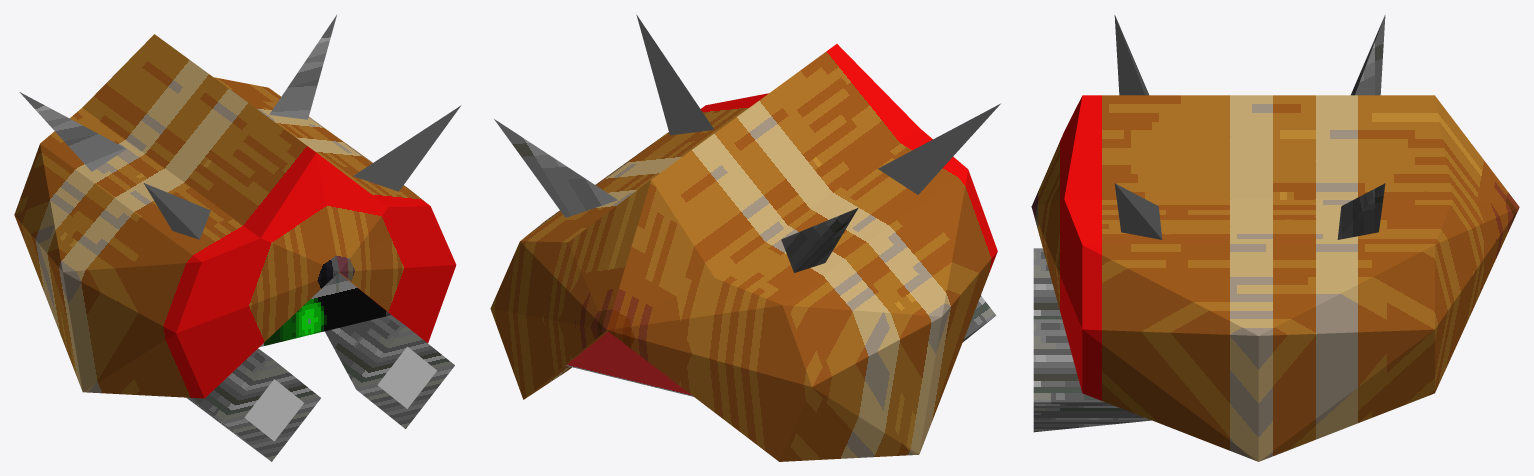
File: model_083_robot.glb
3 renders of one model, left to right at view 1: azimuth 30°, elevation 25°; view 2: azimuth 150°, elevation 25°; view 3: azimuth 270°, elevation 25°, orthographic. The views are drawn at different scales.
Visible parts, largest first — view 1: model_083; view 2: model_083; view 3: model_083.
Boxes of the visible parts, left/top/right/bottom form: model_083: left=14, top=15, right=461, bottom=461; model_083: left=490, top=14, right=1000, bottom=461; model_083: left=1031, top=15, right=1519, bottom=461.
Bounding box in the file's own units: 8.86 × 6.79 × 10.
5 materials, 4 textured.
